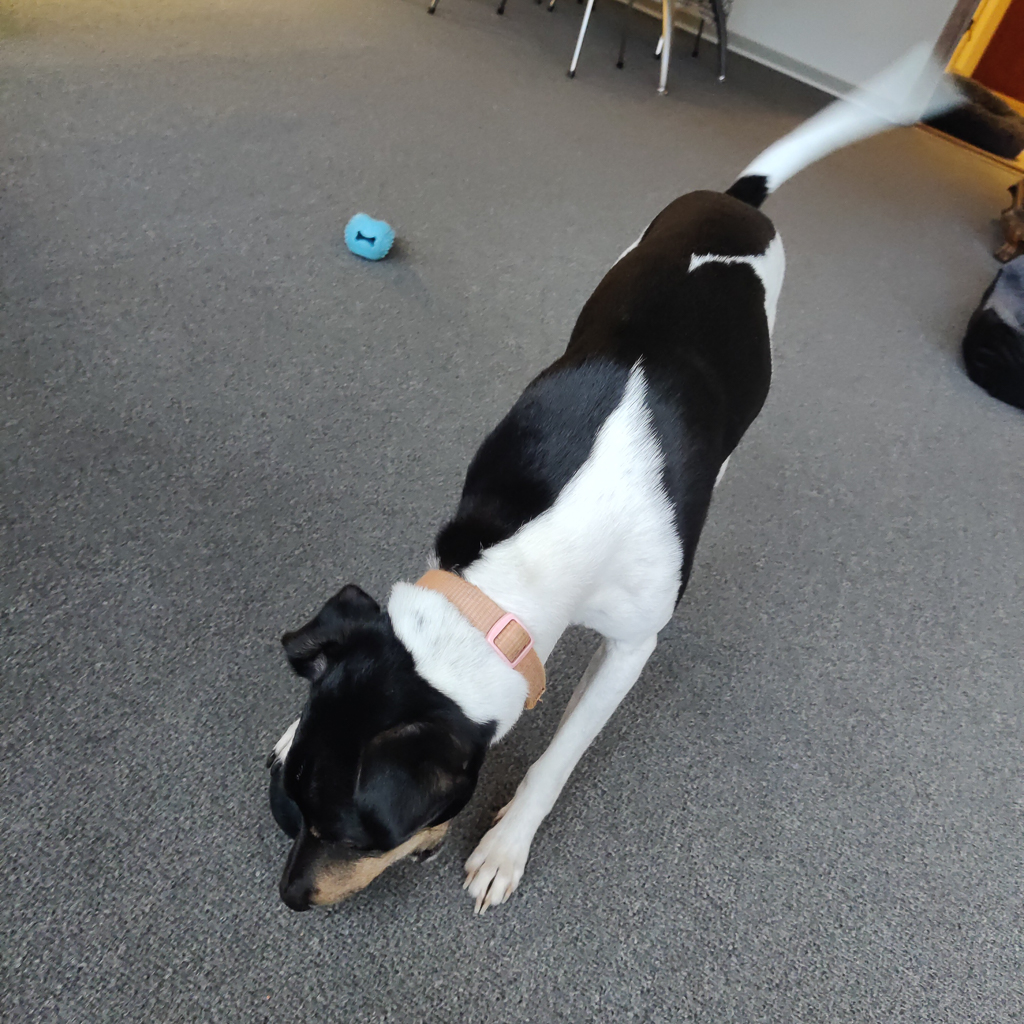Dog: (235, 37, 975, 945)
